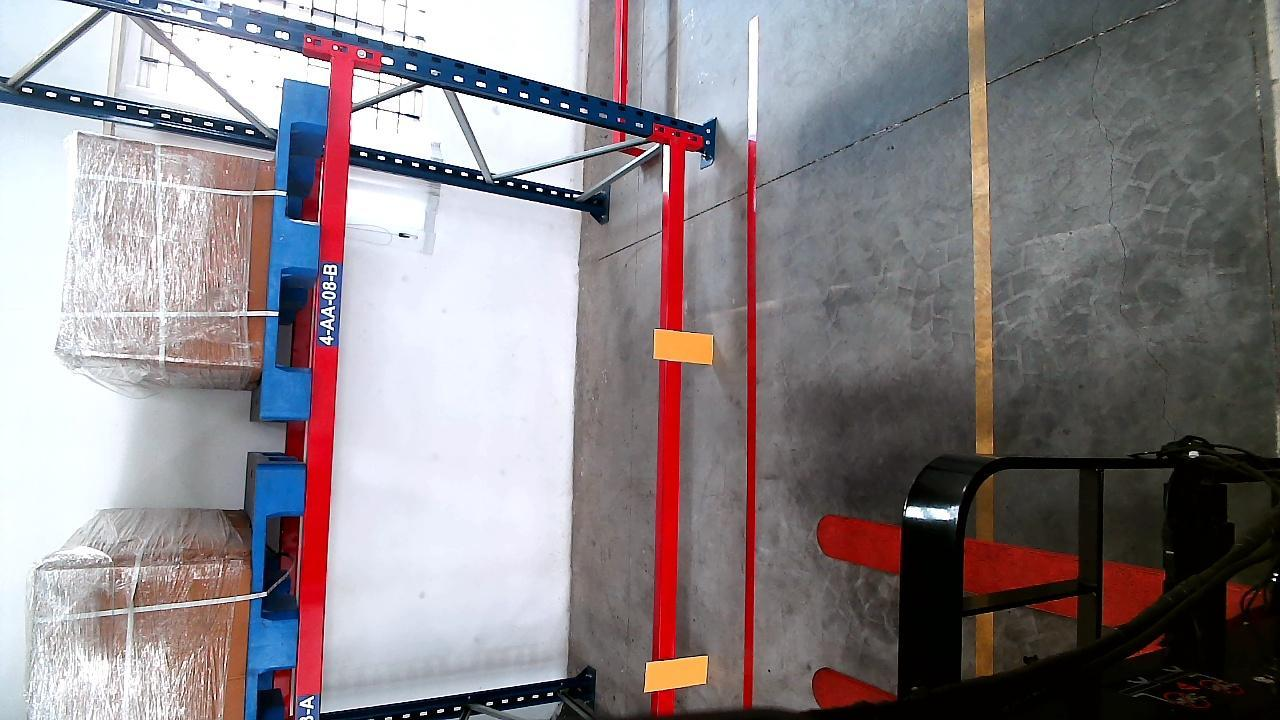red_line: (735, 131, 758, 706)
yellow_line: (970, 0, 997, 450)
